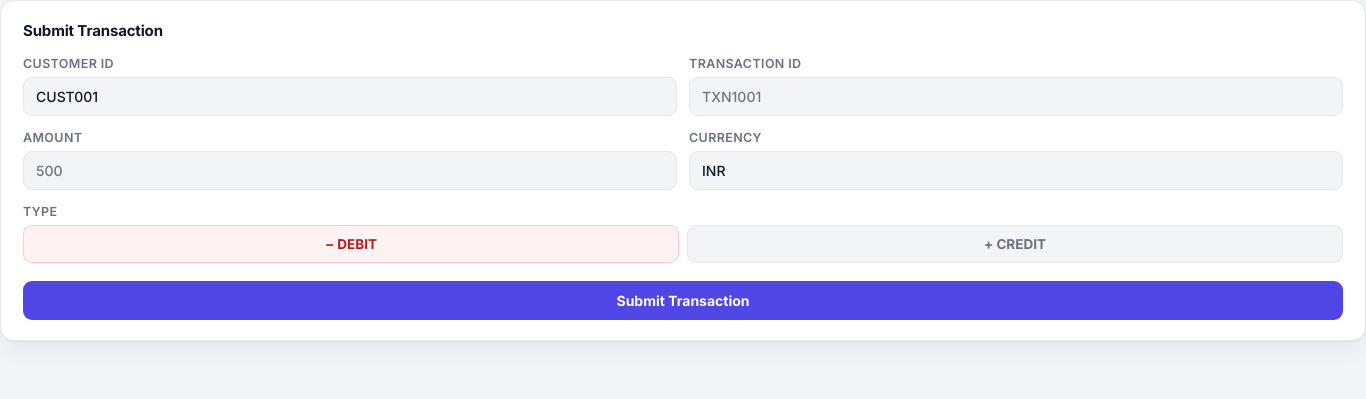
TransactionForm › surfaces API errors returned as rejected promises
The width and height of the screenshot is (1366, 399).
Step 1. Type "TXN3" into the field with placeholder "TXN1001" → [1016, 96], box [689, 77, 1343, 116]
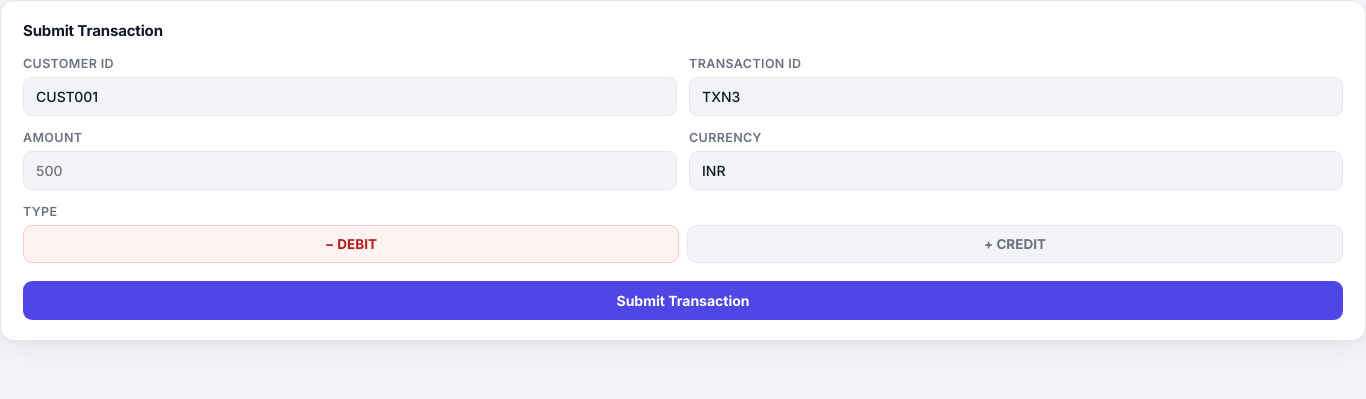
Step 2. Type "100" into the number field with placeholder "500" → [350, 170], box [23, 151, 677, 190]
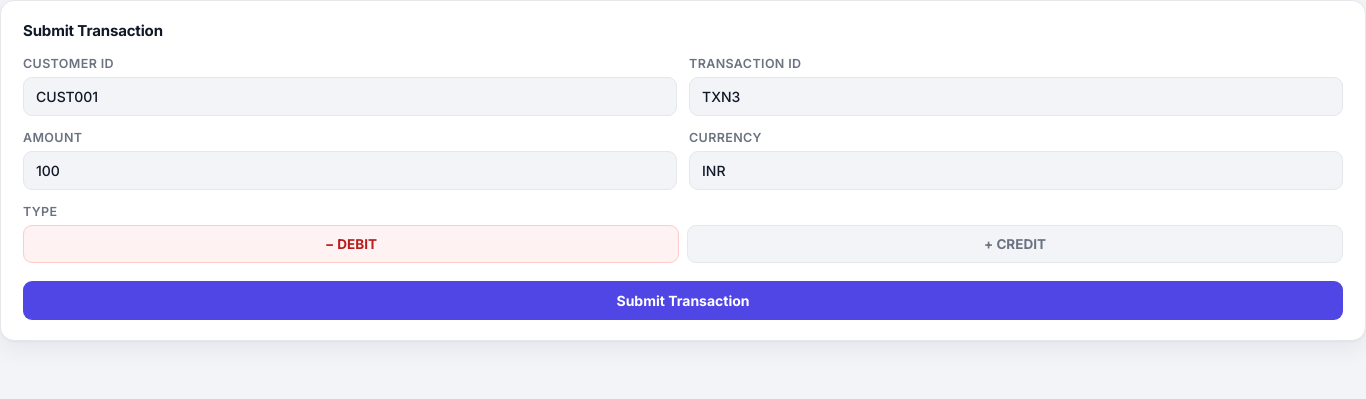
Step 3. Click the button "Submit Transaction" → [683, 300], box [23, 281, 1343, 320]
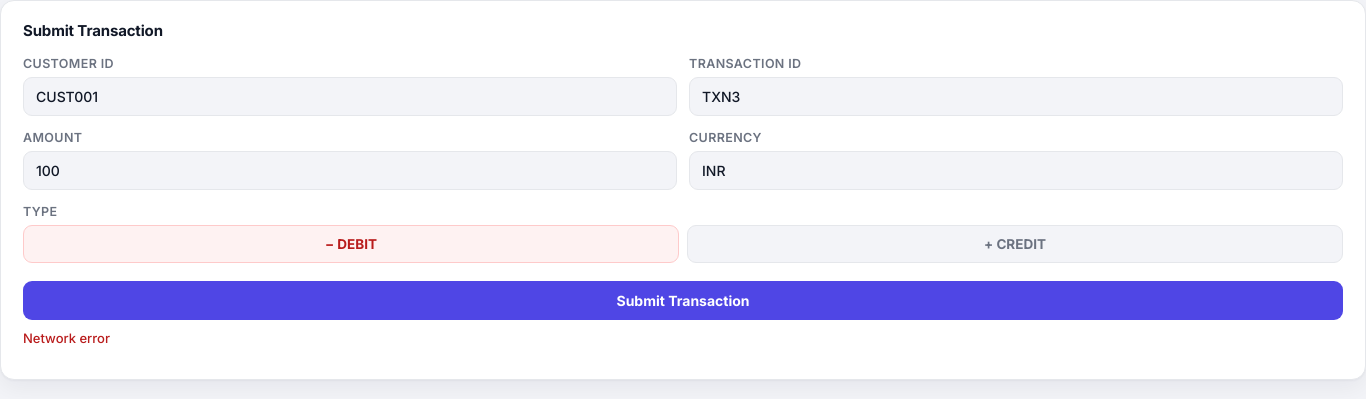
Result: the message reads "Network error" at [23, 330, 110, 346]
